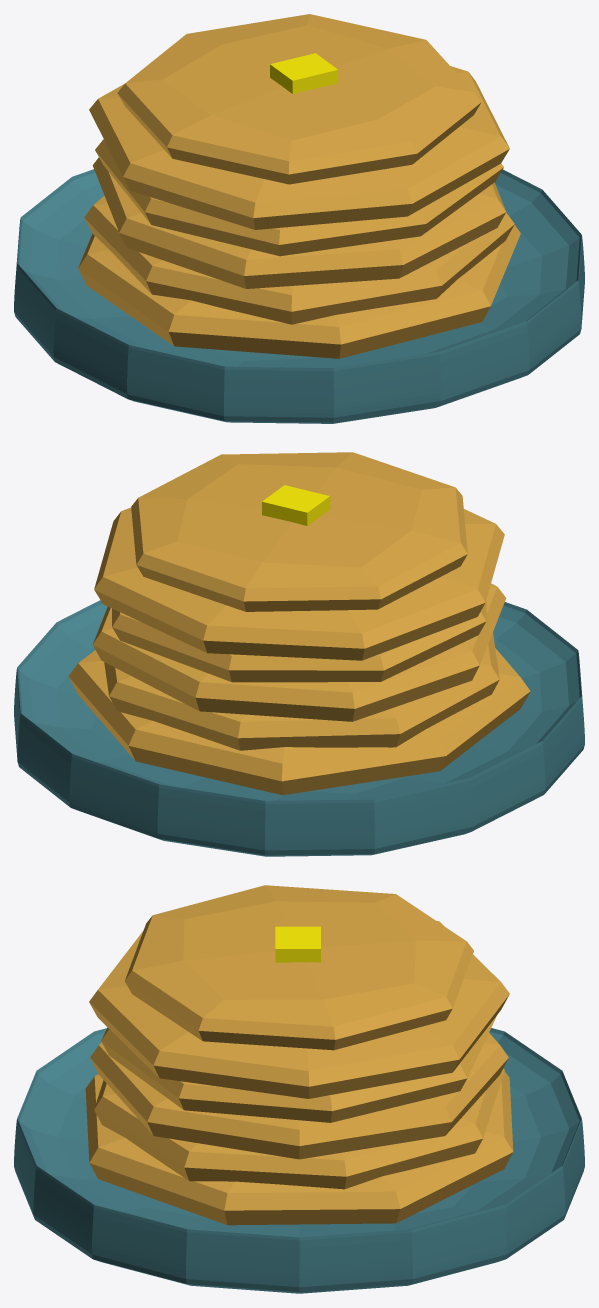
The model's file is Pancakes.fbx.
3 renders of one model, top to bottom at view 1: azimuth 30°, elevation 25°; view 2: azimuth 150°, elevation 25°; view 3: azimuth 270°, elevation 25°, orthographic.
Visible parts, largest first — view 1: Cube, Cube.007, Cube.008, Cube.001, Cube.004, Cube.002, Cube.003, Cube.005; view 2: Cube, Cube.007, Cube.008, Cube.001, Cube.004, Cube.002, Cube.003, Cube.005; view 3: Cube, Cube.007, Cube.008, Cube.001, Cube.004, Cube.002, Cube.003, Cube.005.
Part boxes in pixels (x1,y1,x2,y2): Cube: [14, 169, 584, 423]; Cube.007: [117, 14, 481, 184]; Cube.008: [89, 66, 509, 229]; Cube.001: [78, 225, 520, 358]; Cube.004: [92, 157, 506, 288]; Cube.002: [84, 196, 514, 324]; Cube.003: [95, 139, 503, 256]; Cube.005: [270, 53, 338, 93]; Cube: [14, 600, 584, 856]; Cube.007: [131, 452, 467, 611]; Cube.008: [94, 507, 504, 660]; Cube.001: [68, 648, 530, 795]; Cube.004: [92, 583, 506, 721]; Cube.002: [104, 632, 499, 750]; Cube.003: [112, 599, 486, 682]; Cube.005: [262, 485, 330, 525]; Cube: [14, 1028, 584, 1293]; Cube.007: [125, 885, 473, 1050]; Cube.008: [89, 921, 509, 1098]; Cube.001: [85, 1071, 513, 1225]; Cube.004: [90, 1033, 508, 1159]; Cube.002: [94, 1068, 504, 1189]; Cube.003: [101, 1016, 496, 1122]; Cube.005: [275, 926, 320, 962].
Size of the model in its own units: 41.83 by 20.7 by 41.83.
